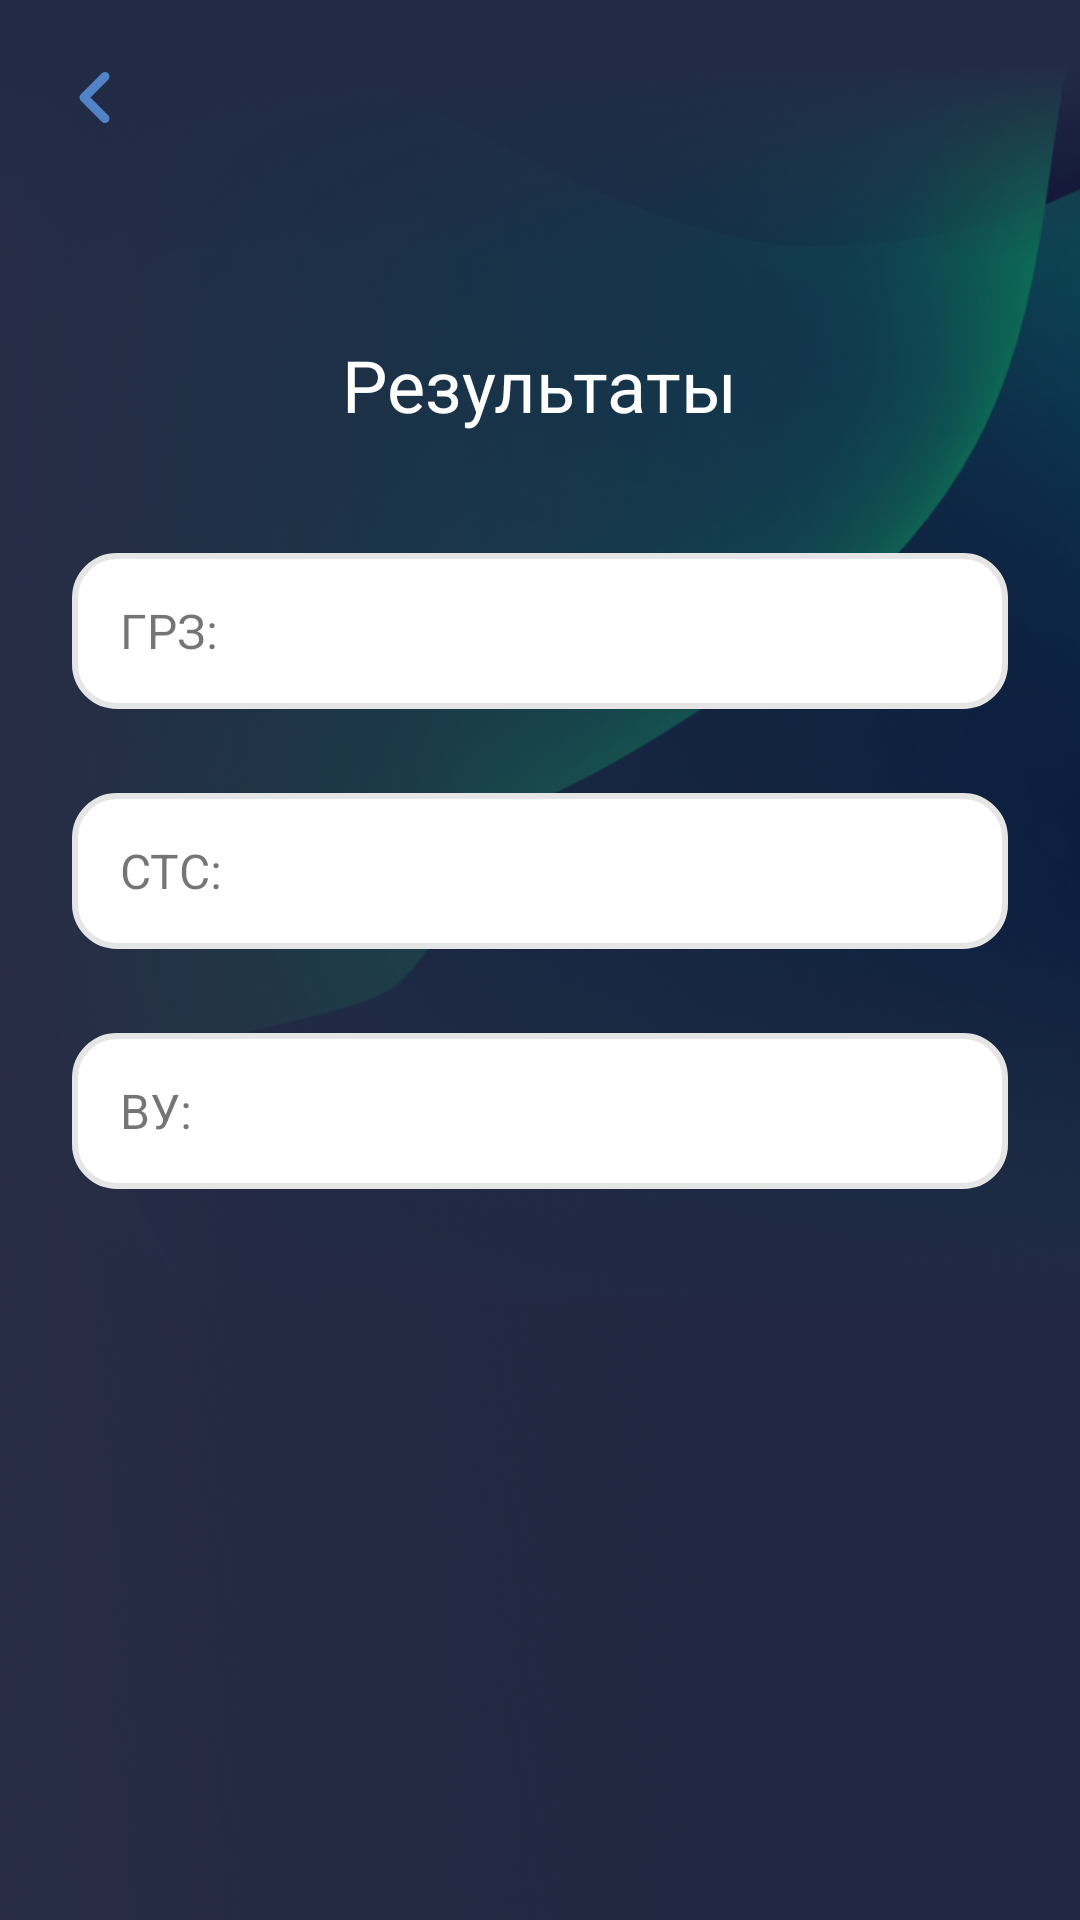

Icons on this 1080x1920 Android screen, each with the point to tap as point (x, y):
arrow back: point (94, 97)
